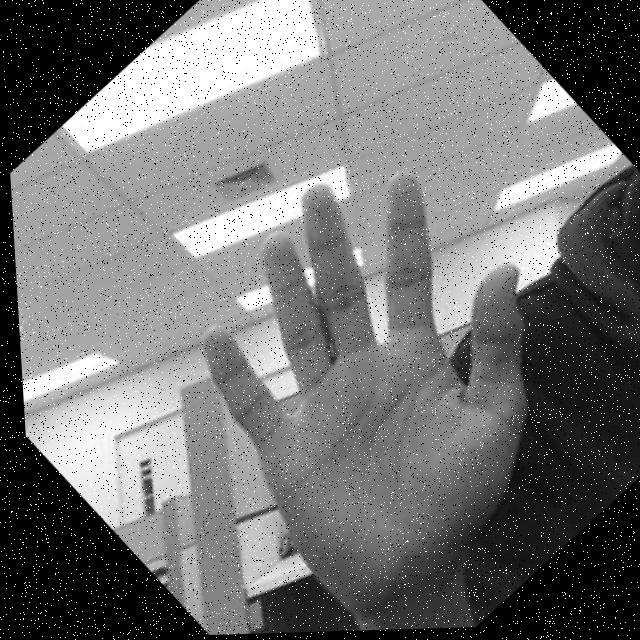no-gloves: (98, 114, 635, 638)
